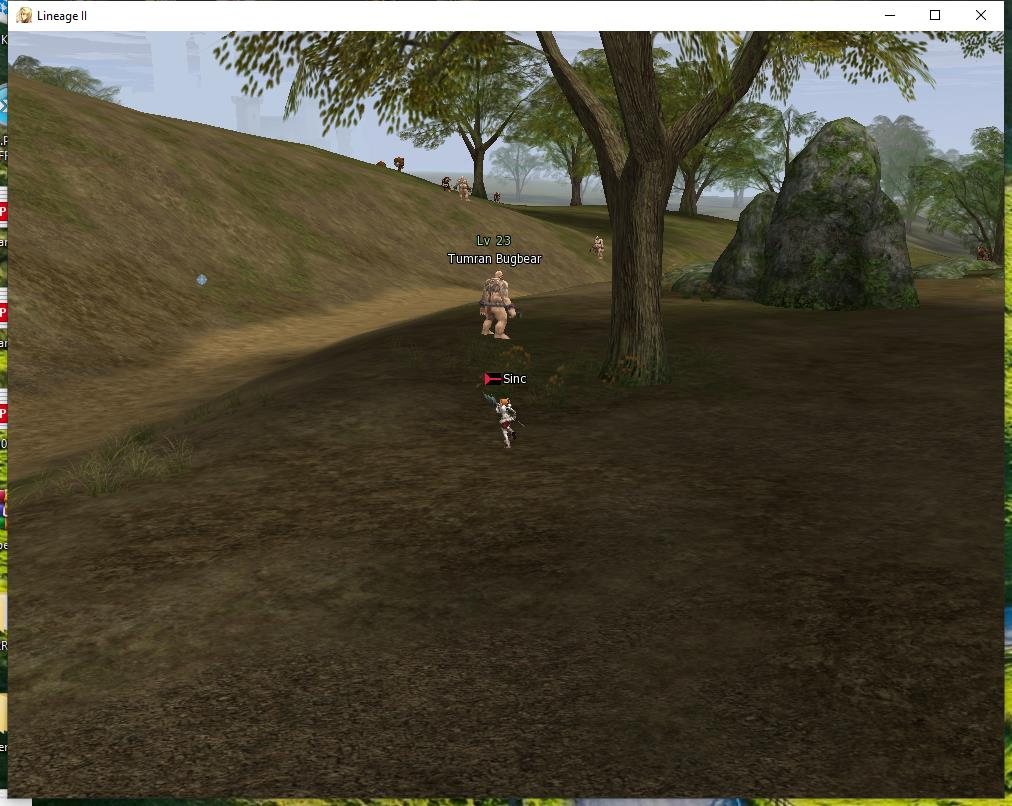monster: (439, 221, 547, 341), (587, 229, 606, 261), (456, 173, 470, 203), (395, 153, 408, 173), (440, 174, 449, 188)
